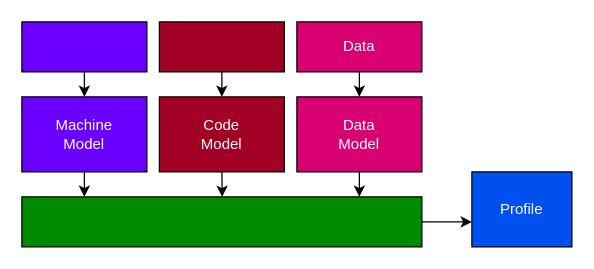
Some shapes in this 594 by 269 pixel diagram are drawn without their labels. Here are the shapes that lost their labels. From the top down, the centre of each, then its label:
the point at 84,46: Machine
the point at 221,46: Code
the point at 221,221: System Model
